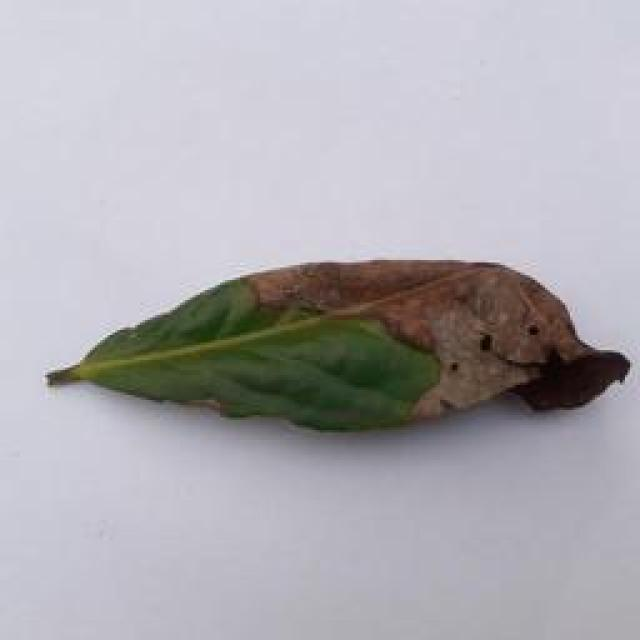Brown Blight: (27, 245, 640, 450)
